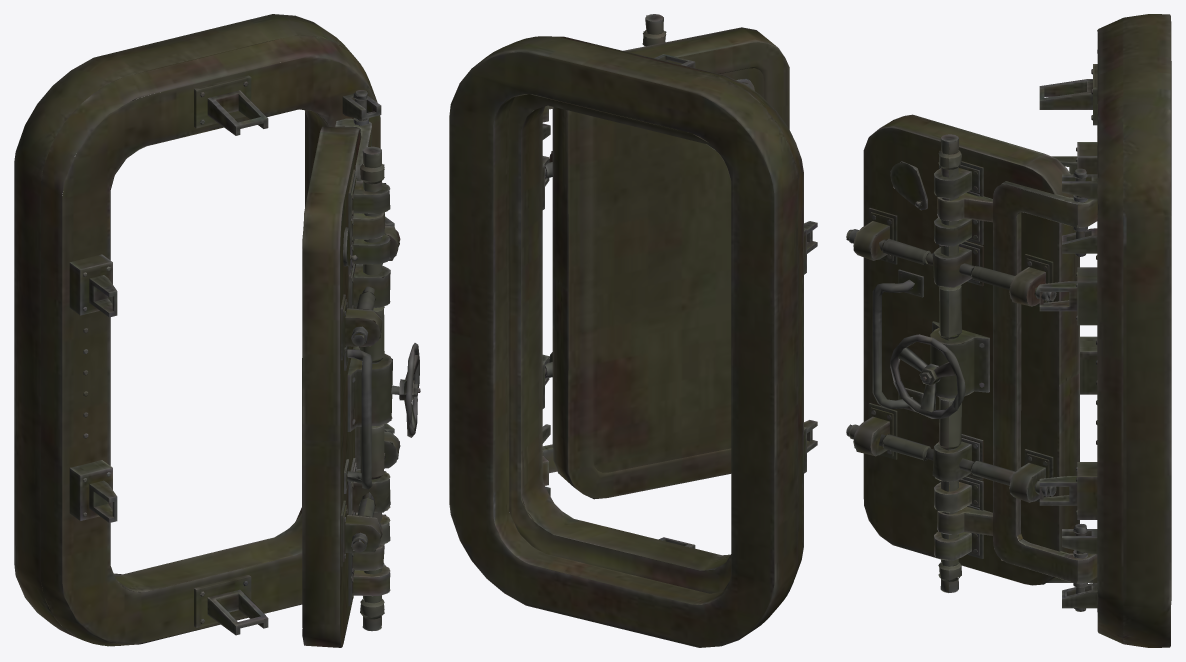
File: bunker_door.glb
3 renders of one model, left to right at view 1: azimuth 30°, elevation 25°; view 2: azimuth 150°, elevation 25°; view 3: azimuth 270°, elevation 25°, orthographic. The views are drawn at different scales.
Visible parts, largest first — view 1: BunkerDoor; view 2: BunkerDoor; view 3: BunkerDoor.
Part boxes in pixels (x1,y1,x2,y2): BunkerDoor: (14, 14, 420, 647); BunkerDoor: (449, 14, 817, 647); BunkerDoor: (846, 14, 1171, 647).
Size of the model in its own units: 1.48 by 2.4 by 1.3.
1 material, 1 textured.
